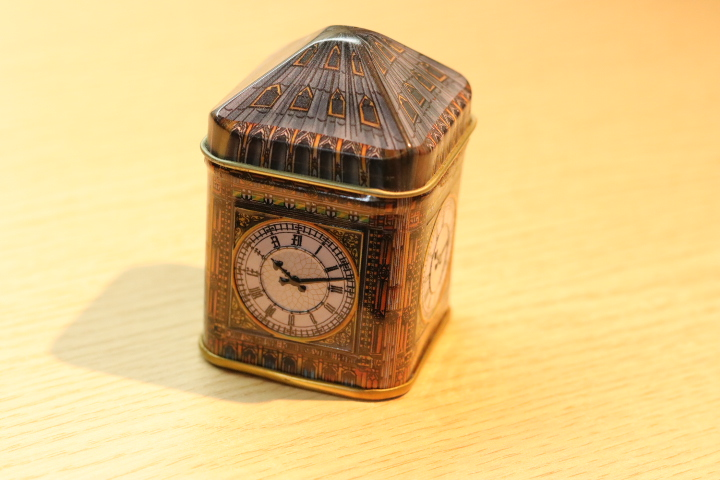Big Ben: (187, 19, 498, 409)
